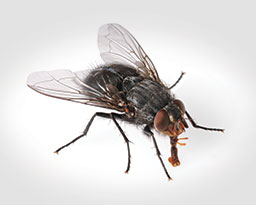house fly: (24, 21, 231, 188)
